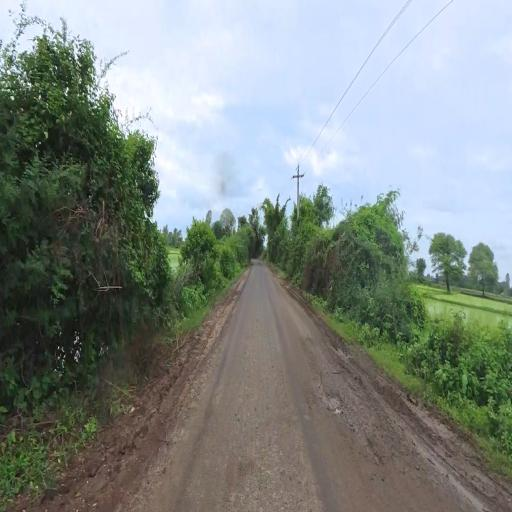ravelling: (297, 330, 373, 467)
